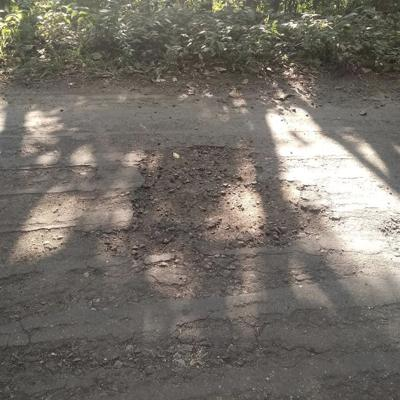Pothole: (88, 116, 335, 279), (366, 210, 399, 246)
